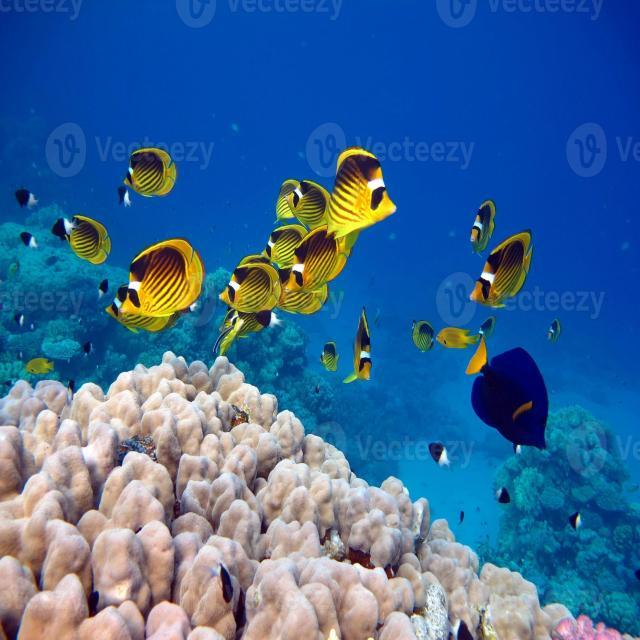ButterflyFish: (480, 342, 552, 457), (260, 154, 342, 239), (126, 228, 210, 308), (473, 220, 553, 304), (337, 144, 407, 234), (215, 248, 282, 332), (277, 212, 370, 272), (50, 191, 111, 275), (120, 142, 184, 196), (347, 300, 381, 398), (268, 275, 332, 324), (454, 194, 504, 250), (101, 291, 176, 324)
